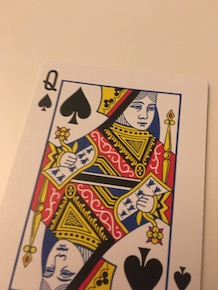QueenOfSpades: (1, 56, 214, 290)
